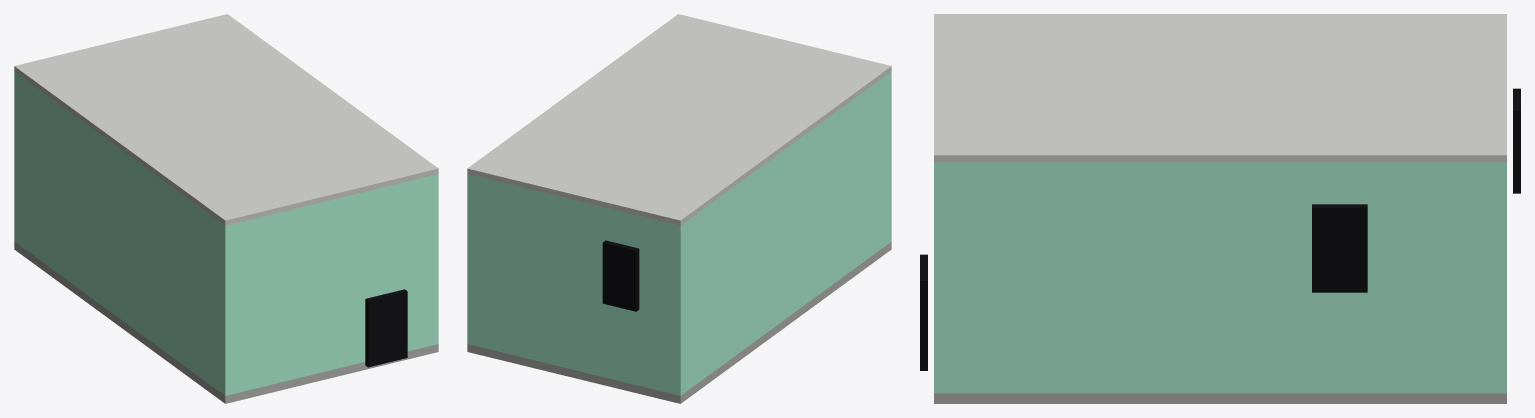
The model's file is rdwe_stair_loop.glb.
The picture shows the model from 3 angles, left to right: view 1: azimuth 30°, elevation 25°; view 2: azimuth 150°, elevation 25°; view 3: azimuth 270°, elevation 25°; orthographic projection. The views are drawn at different scales.
Visible parts, largest first — view 1: Stairs_Ceiling, Stairs_Wall_W_1, Stairs_Wall_S_1, Stairs_Wall_S_3, Stairs_Floor, Stairs_Wall_S_2, Beyond_hall, Stairs_Wall_N_1; view 2: Stairs_Ceiling, Stairs_Wall_W_1, Stairs_Wall_N_4, Stairs_Wall_N_1, Stairs_Floor, Beyond_top, Stairs_Wall_N_2, Stairs_Wall_N_3, Stairs_Wall_S_1; view 3: Stairs_Wall_E_4, Stairs_Ceiling, Stairs_Wall_E_1, Stairs_Floor, Beyond_landing, Stairs_Wall_E_2, Stairs_Wall_N_4, Stairs_Wall_S_3, Stairs_Wall_E_3, Beyond_hall, Beyond_top.
Boxes of the visible parts, x1,y1,x2,y2 form: Stairs_Ceiling: (14, 14, 438, 225); Stairs_Wall_W_1: (17, 74, 222, 393); Stairs_Wall_S_1: (222, 191, 368, 395); Stairs_Wall_S_3: (397, 174, 438, 351); Stairs_Floor: (14, 242, 438, 403); Stairs_Wall_S_2: (369, 184, 396, 297); Beyond_hall: (365, 289, 407, 367); Stairs_Wall_N_1: (14, 71, 17, 243); Stairs_Ceiling: (467, 14, 891, 225); Stairs_Wall_W_1: (683, 74, 888, 393); Stairs_Wall_N_4: (467, 174, 613, 379); Stairs_Wall_N_1: (635, 215, 683, 395); Stairs_Floor: (467, 242, 891, 403); Beyond_top: (602, 240, 639, 311); Stairs_Wall_N_2: (613, 306, 635, 384); Stairs_Wall_N_3: (613, 209, 635, 247); Stairs_Wall_S_1: (888, 71, 891, 243); Stairs_Wall_E_4: (942, 162, 1320, 393); Stairs_Ceiling: (934, 14, 1506, 162); Stairs_Wall_E_1: (1358, 162, 1498, 393); Stairs_Floor: (934, 393, 1506, 403); Beyond_landing: (1312, 204, 1367, 292); Stairs_Wall_E_2: (1321, 292, 1358, 393); Stairs_Wall_N_4: (1499, 162, 1506, 393); Stairs_Wall_S_3: (934, 162, 941, 393); Stairs_Wall_E_3: (1321, 162, 1358, 204); Beyond_hall: (920, 254, 927, 370); Beyond_top: (1513, 88, 1520, 193).
Bounding box in the file's own units: 8.75 × 6.9 × 15.1.
